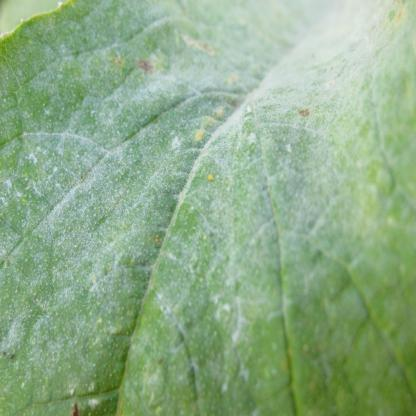Squash Powdery mildew leaf: (5, 3, 415, 361)
